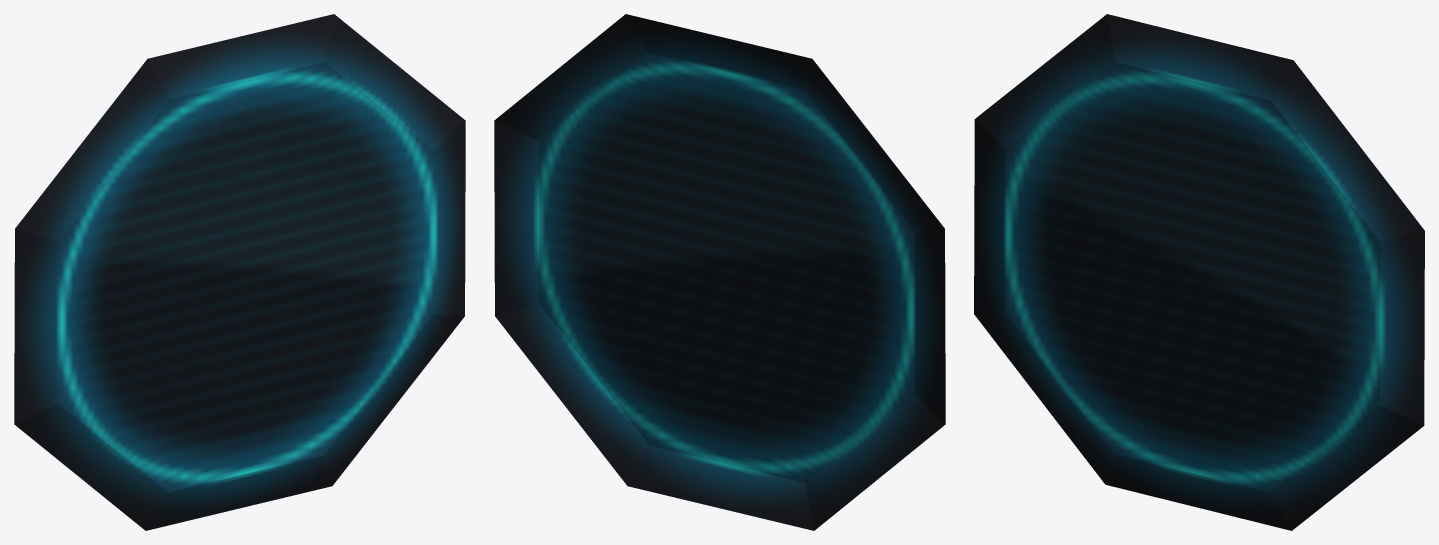
The model's file is bwhc_tbys001.FBX.
3 views of the same model, side by side, from view 1: azimuth 30°, elevation 25°; view 2: azimuth 150°, elevation 25°; view 3: azimuth 330°, elevation 25° (orthographic).
Parts seen in each view (by area): view 1: bwhc_zhou_gow001; view 2: bwhc_zhou_gow001; view 3: bwhc_zhou_gow001.
Part boxes in pixels (x1,y1,x2,y2): bwhc_zhou_gow001: (14, 14, 465, 530); bwhc_zhou_gow001: (494, 14, 945, 530); bwhc_zhou_gow001: (974, 14, 1424, 530).
Bounding box in the file's own units: 0.2141 × 0.2141 × 0.00551.
Materials: 1 (1 with a texture image).
